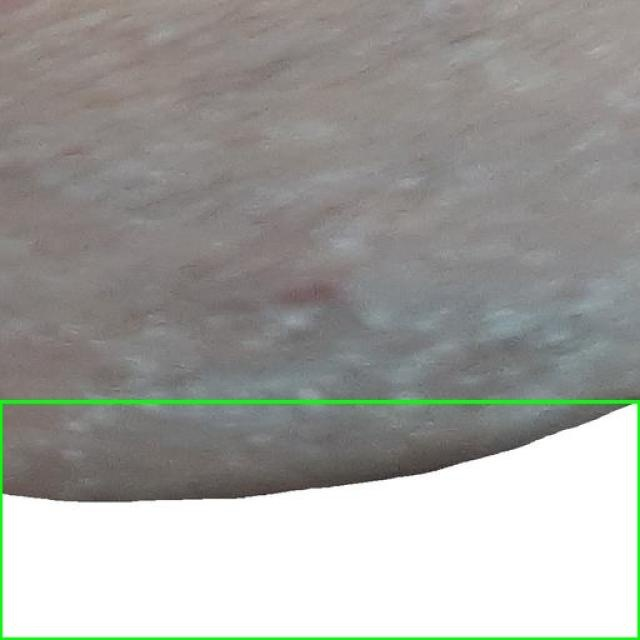Tinea Corporis: (0, 401, 639, 639)
